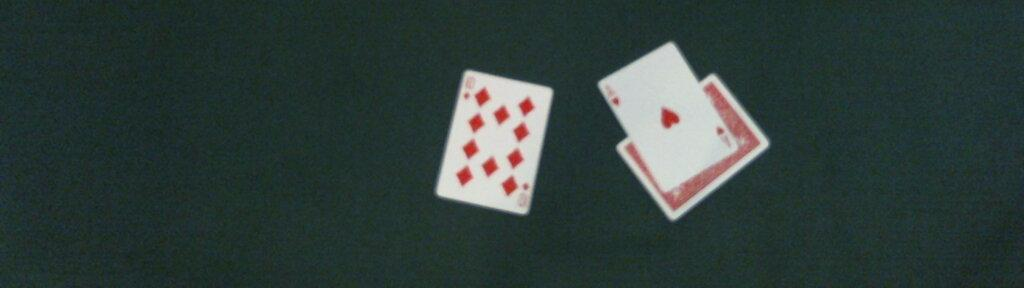ace: (598, 40, 737, 193)
back: (613, 73, 769, 221)
ten: (433, 68, 553, 216)
